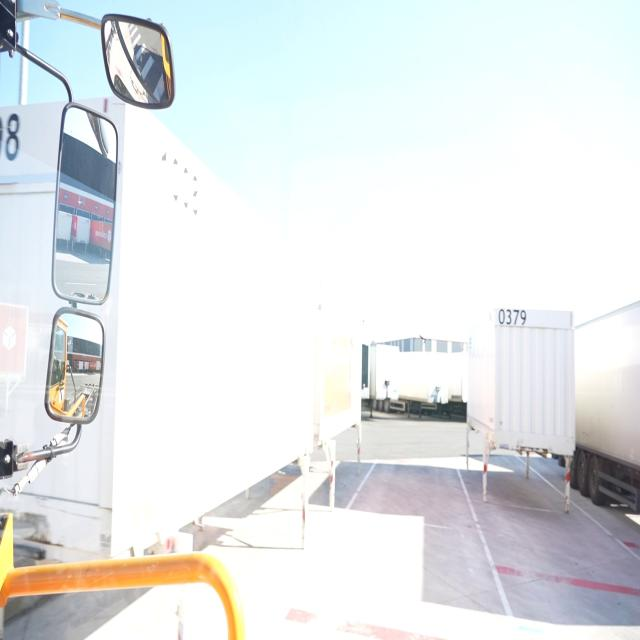Code: (496, 304, 529, 328)
